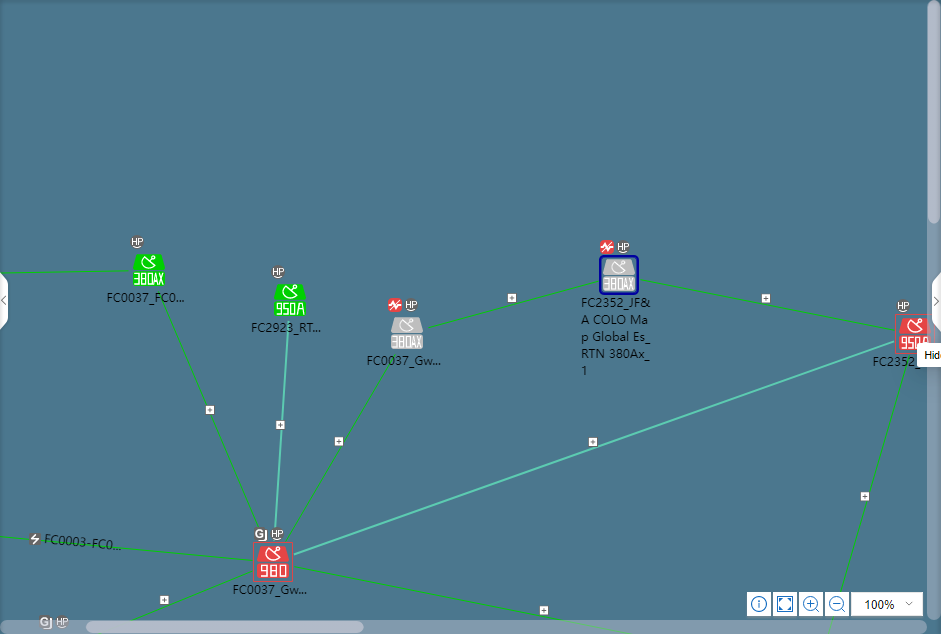Link_Blue: (303, 338, 891, 551), (273, 320, 288, 511)
Link_Green: (156, 291, 266, 530), (285, 349, 401, 542), (838, 355, 912, 595), (297, 561, 572, 624), (644, 279, 891, 336), (426, 279, 601, 329), (3, 532, 251, 565), (132, 567, 254, 624)
RTN_Gray: (597, 255, 643, 293), (391, 314, 425, 354)
RTN_Green: (132, 255, 166, 289), (273, 285, 307, 318)
RTN_Red: (256, 543, 296, 583), (897, 314, 929, 354)
